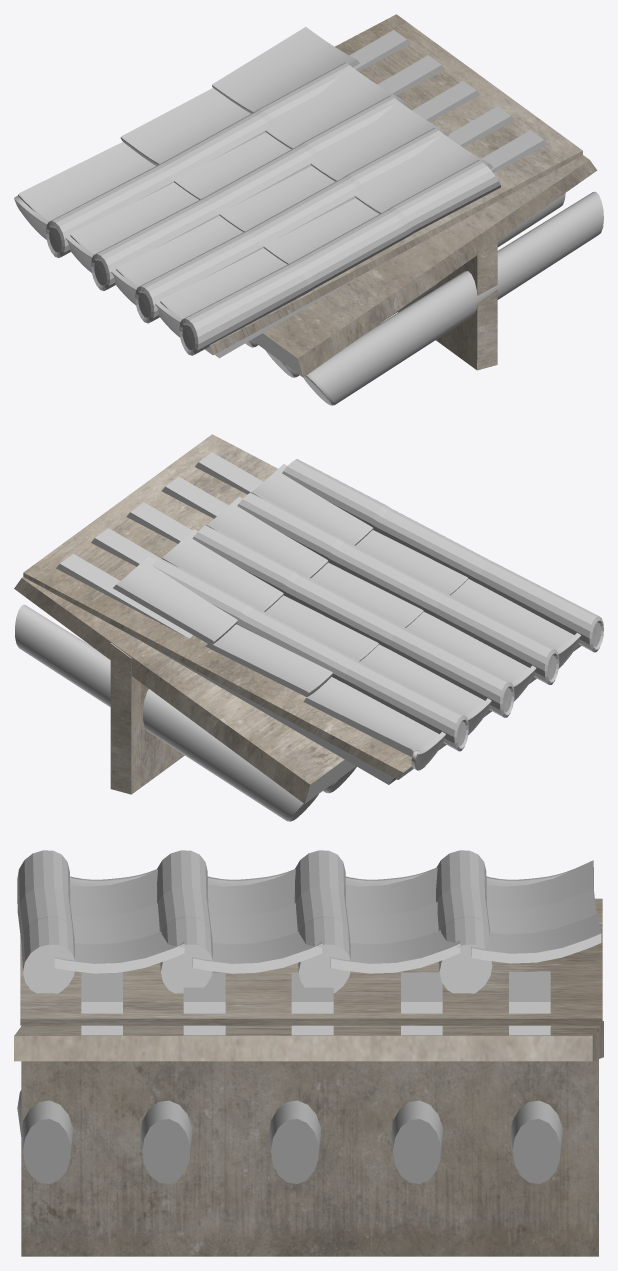
Rendered from SM_Roof_66.fbx.
3 views of the same model, one above another, from view 1: azimuth 30°, elevation 25°; view 2: azimuth 150°, elevation 25°; view 3: azimuth 270°, elevation 25° (orthographic). The views are drawn at different scales.
Visible parts, largest first — view 1: SM_Roof_66; view 2: SM_Roof_66; view 3: SM_Roof_66.
Boxes of the visible parts, x1,y1,x2,y2 form: SM_Roof_66: (14,14,603,405); SM_Roof_66: (14,434,603,821); SM_Roof_66: (14,850,603,1256).
Size of the model in its own units: 323 by 257 by 158.
